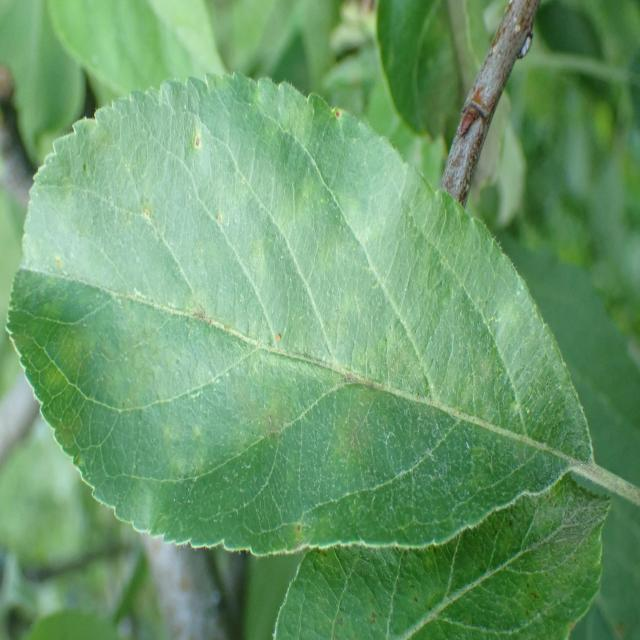scab: (45, 101, 590, 506)
